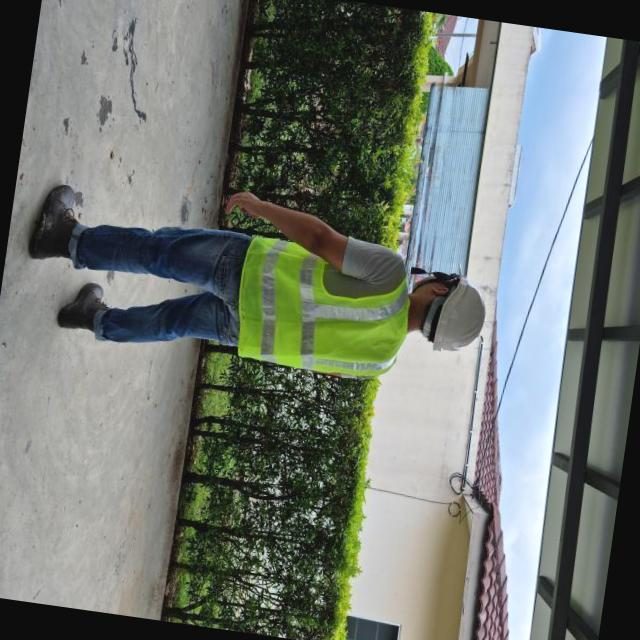boots: (24, 174, 91, 272), (52, 276, 111, 344)
helmet: (430, 268, 495, 362)
vest: (225, 234, 416, 388)
